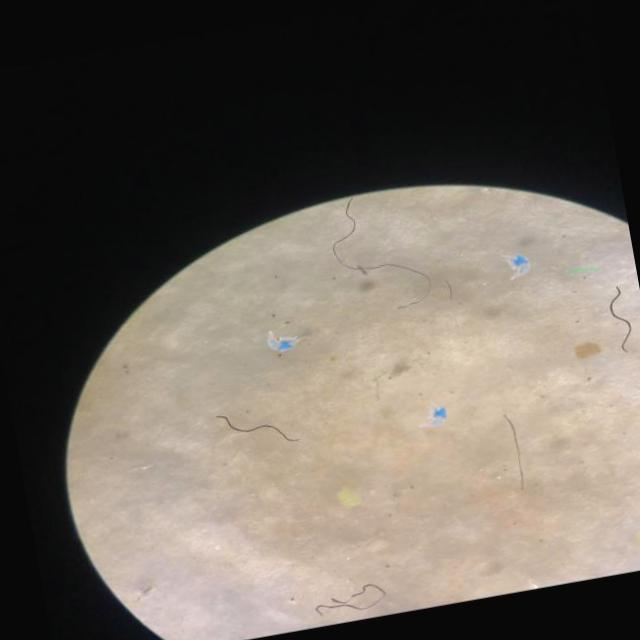fiber: (332, 198, 428, 281), (314, 583, 384, 613), (217, 414, 294, 441), (503, 414, 524, 487), (609, 285, 630, 351)
film: (266, 329, 297, 353), (512, 253, 528, 272), (430, 407, 445, 425)
fragment: (575, 342, 600, 359), (336, 487, 359, 505)
pellet: (215, 544, 220, 549)
